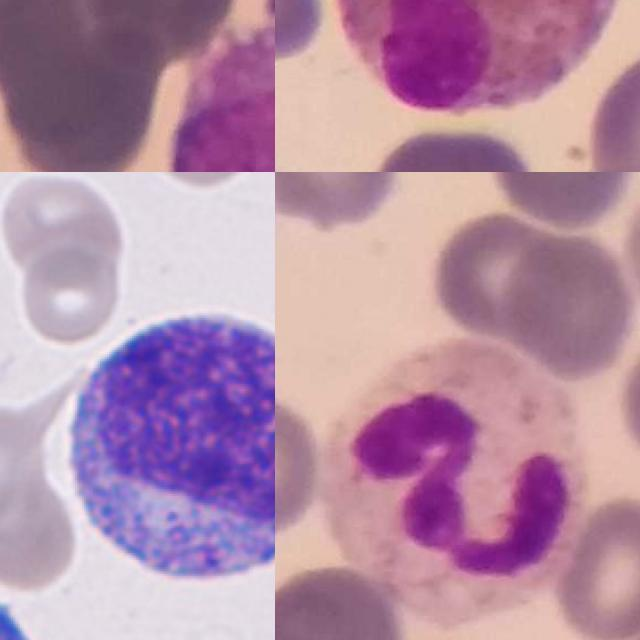Eosinophil: (326, 0, 629, 116)
Lymphocyte: (53, 295, 275, 595), (166, 24, 275, 172)
Neutrophil: (325, 339, 589, 623)
RBC: (0, 172, 130, 288), (15, 245, 125, 345), (0, 469, 80, 597), (0, 400, 51, 537), (124, 172, 274, 194)
